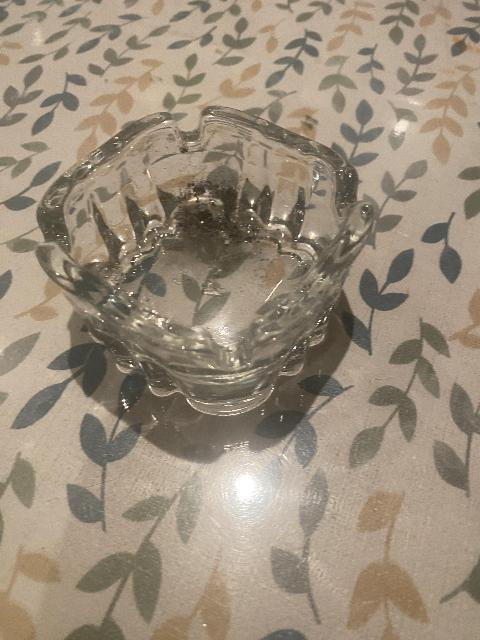Cam: (32, 103, 381, 416)
